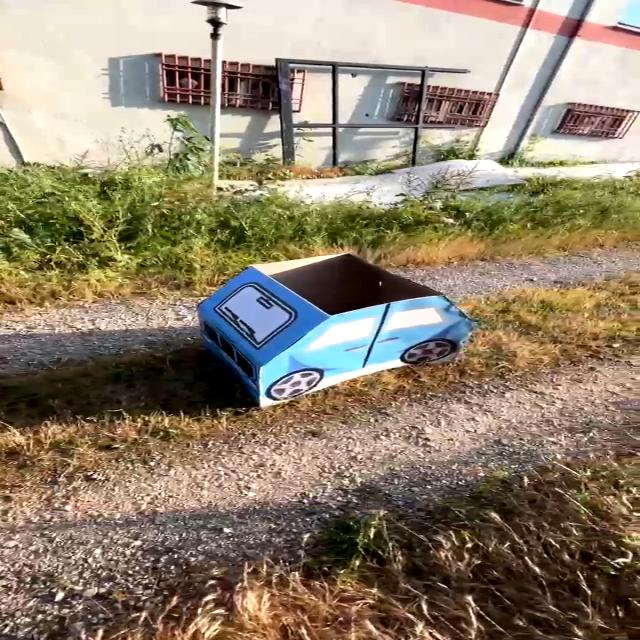blue_car: (131, 219, 488, 430)
